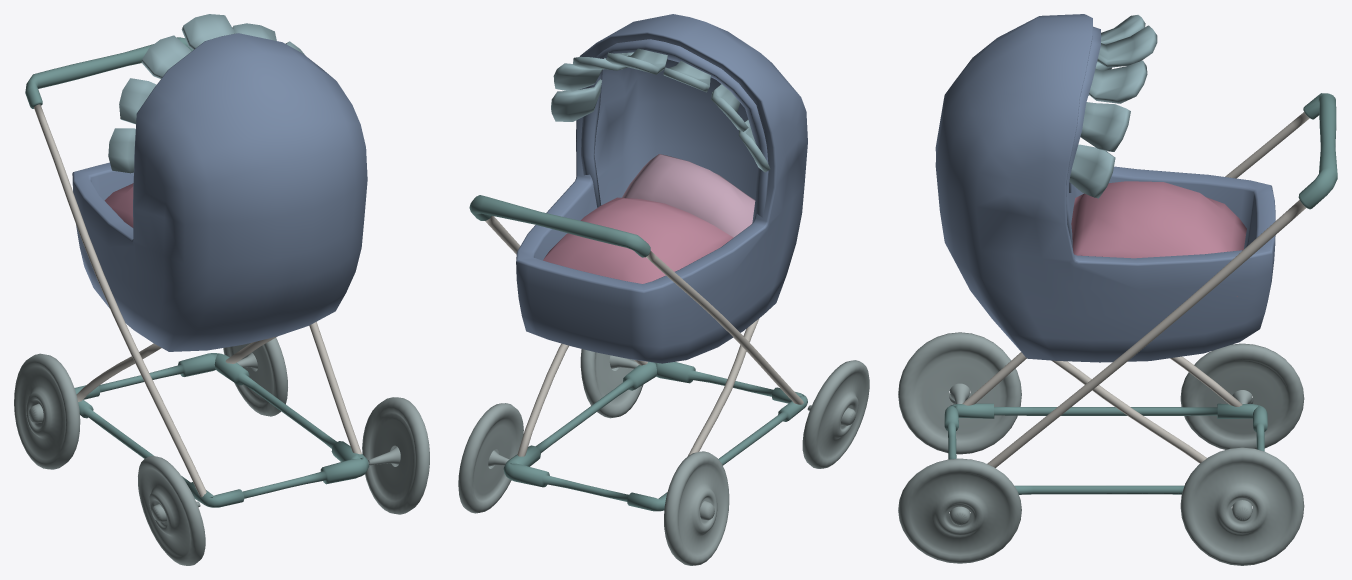
Rendered from Buggy.fbx.
The picture shows the model from 3 angles, left to right: view 1: azimuth 30°, elevation 25°; view 2: azimuth 150°, elevation 25°; view 3: azimuth 270°, elevation 25°; orthographic projection. The views are drawn at different scales.
Visible parts, largest first — view 1: Cart Base, Handle, Frame 1, Wheel.004, Wheel.002, Wheel.003, Wheel.001, Frame 2, Pillow Big; view 2: Cart Base, Pillow Big, Frame 1, Wheel.002, Pillow Small, Handle, Wheel.003, Wheel.001, Wheel.004, Frame 2, Frame 3; view 3: Cart Base, Wheel.001, Pillow Big, Wheel.004, Wheel.003, Wheel.002, Handle, Frame 1, Frame 3, Frame 2.
Part boxes in pixels (x1=…): Cart Base: x1=72, y1=14, x2=367, y2=351; Handle: x1=25, y1=37, x2=361, y2=497; Frame 1: x1=74, y1=353, x2=369, y2=507; Wheel.004: x1=362, y1=397, x2=429, y2=514; Wheel.002: x1=14, y1=353, x2=80, y2=469; Wheel.003: x1=138, y1=456, x2=205, y2=565; Wheel.001: x1=223, y1=338, x2=287, y2=416; Frame 2: x1=76, y1=343, x2=161, y2=401; Pillow Big: x1=104, y1=183, x2=133, y2=227; Cart Base: x1=516, y1=14, x2=807, y2=363; Pillow Big: x1=543, y1=197, x2=733, y2=283; Frame 1: x1=503, y1=361, x2=807, y2=511; Wheel.002: x1=664, y1=451, x2=729, y2=565; Pillow Small: x1=622, y1=154, x2=755, y2=237; Handle: x1=469, y1=195, x2=803, y2=404; Wheel.003: x1=802, y1=360, x2=869, y2=468; Wheel.001: x1=458, y1=403, x2=523, y2=513; Wheel.004: x1=580, y1=349, x2=643, y2=418; Frame 2: x1=667, y1=318, x2=759, y2=492; Frame 3: x1=517, y1=343, x2=568, y2=456; Cart Base: x1=935, y1=14, x2=1275, y2=362; Wheel.001: x1=1180, y1=447, x2=1304, y2=565; Pillow Big: x1=1071, y1=181, x2=1246, y2=296; Wheel.004: x1=898, y1=458, x2=1021, y2=563; Wheel.003: x1=898, y1=332, x2=1021, y2=454; Wheel.002: x1=1180, y1=343, x2=1304, y2=449; Handle: x1=962, y1=93, x2=1337, y2=467; Frame 1: x1=944, y1=403, x2=1267, y2=494; Frame 3: x1=1052, y1=360, x2=1206, y2=463; Frame 2: x1=1170, y1=356, x2=1242, y2=406.
Bounding box in the file's own units: 2041 × 3408 × 2811.
